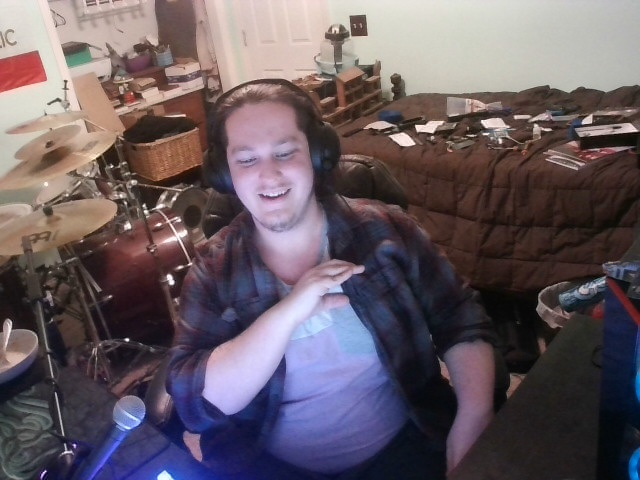police: (280, 248, 376, 333)
